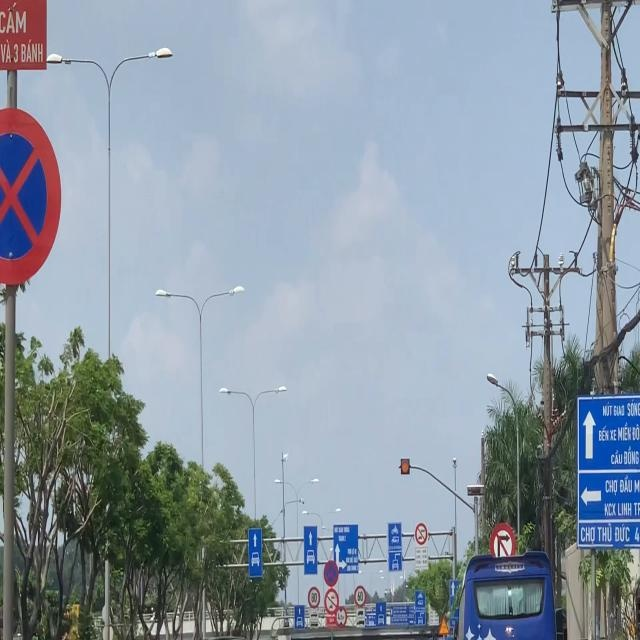bien_chi_dan: (0, 100, 63, 290), (488, 522, 514, 562), (306, 583, 323, 610), (323, 560, 339, 587), (354, 585, 367, 609)
